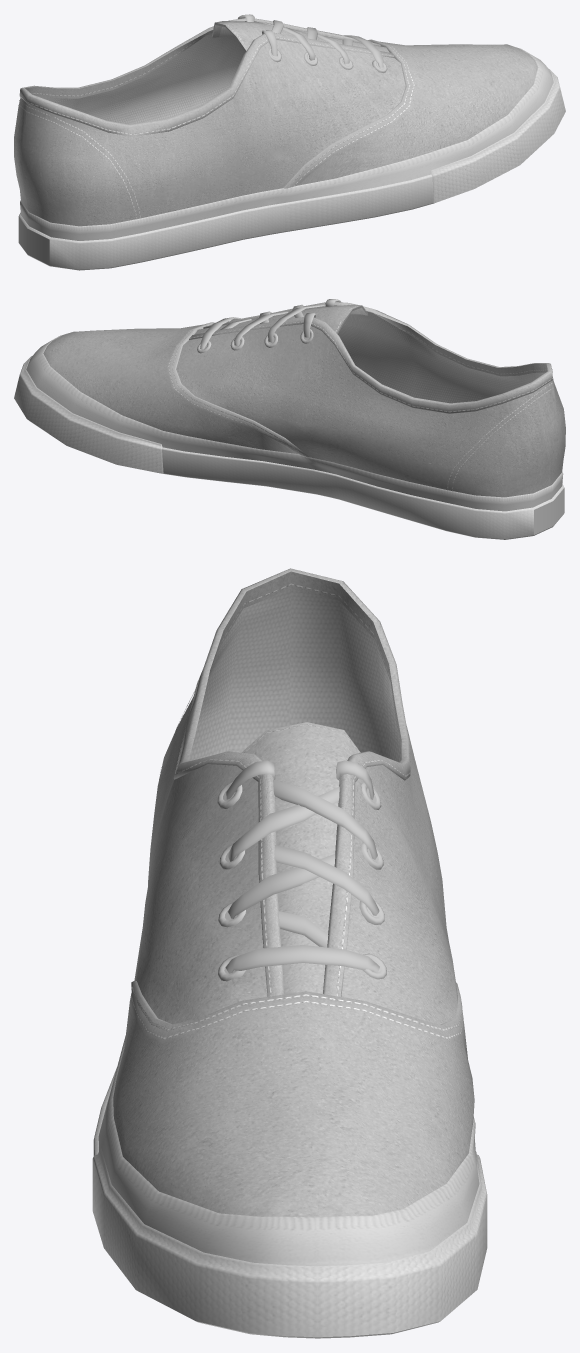
File: triumphsuede_markmcnairy.FBX
3 views of the same model, one above another, from view 1: azimuth 30°, elevation 25°; view 2: azimuth 150°, elevation 25°; view 3: azimuth 270°, elevation 25° (orthographic). The views are drawn at different scales.
Parts seen in each view (by area): view 1: sneaker_upper, sneaker_sole, sneaker_interior, sneaker_laces_rivets_tags, sneaker_stictches; view 2: sneaker_upper, sneaker_sole, sneaker_interior, sneaker_laces_rivets_tags, sneaker_stictches; view 3: sneaker_upper, sneaker_sole, sneaker_interior, sneaker_laces_rivets_tags, sneaker_stictches.
Boxes of the visible parts, left/top/right/bottom form: sneaker_upper: left=14, top=18, right=538, bottom=226; sneaker_sole: left=18, top=48, right=565, bottom=270; sneaker_interior: left=36, top=26, right=245, bottom=124; sneaker_laces_rivets_tags: left=18, top=14, right=387, bottom=265; sneaker_stictches: left=18, top=24, right=414, bottom=219; sneaker_upper: left=43, top=302, right=565, bottom=497; sneaker_sole: left=14, top=335, right=564, bottom=539; sneaker_interior: left=337, top=309, right=545, bottom=403; sneaker_laces_rivets_tags: left=197, top=299, right=564, bottom=534; sneaker_stictches: left=168, top=305, right=553, bottom=491; sneaker_upper: left=113, top=568, right=474, bottom=1217; sneaker_sole: left=92, top=1036, right=487, bottom=1338; sneaker_interior: left=188, top=589, right=401, bottom=762; sneaker_laces_rivets_tags: left=217, top=760, right=386, bottom=981; sneaker_stictches: left=130, top=583, right=463, bottom=1039.
Bounding box in the file's own units: 0.2536 × 0.0798 × 0.0823.
